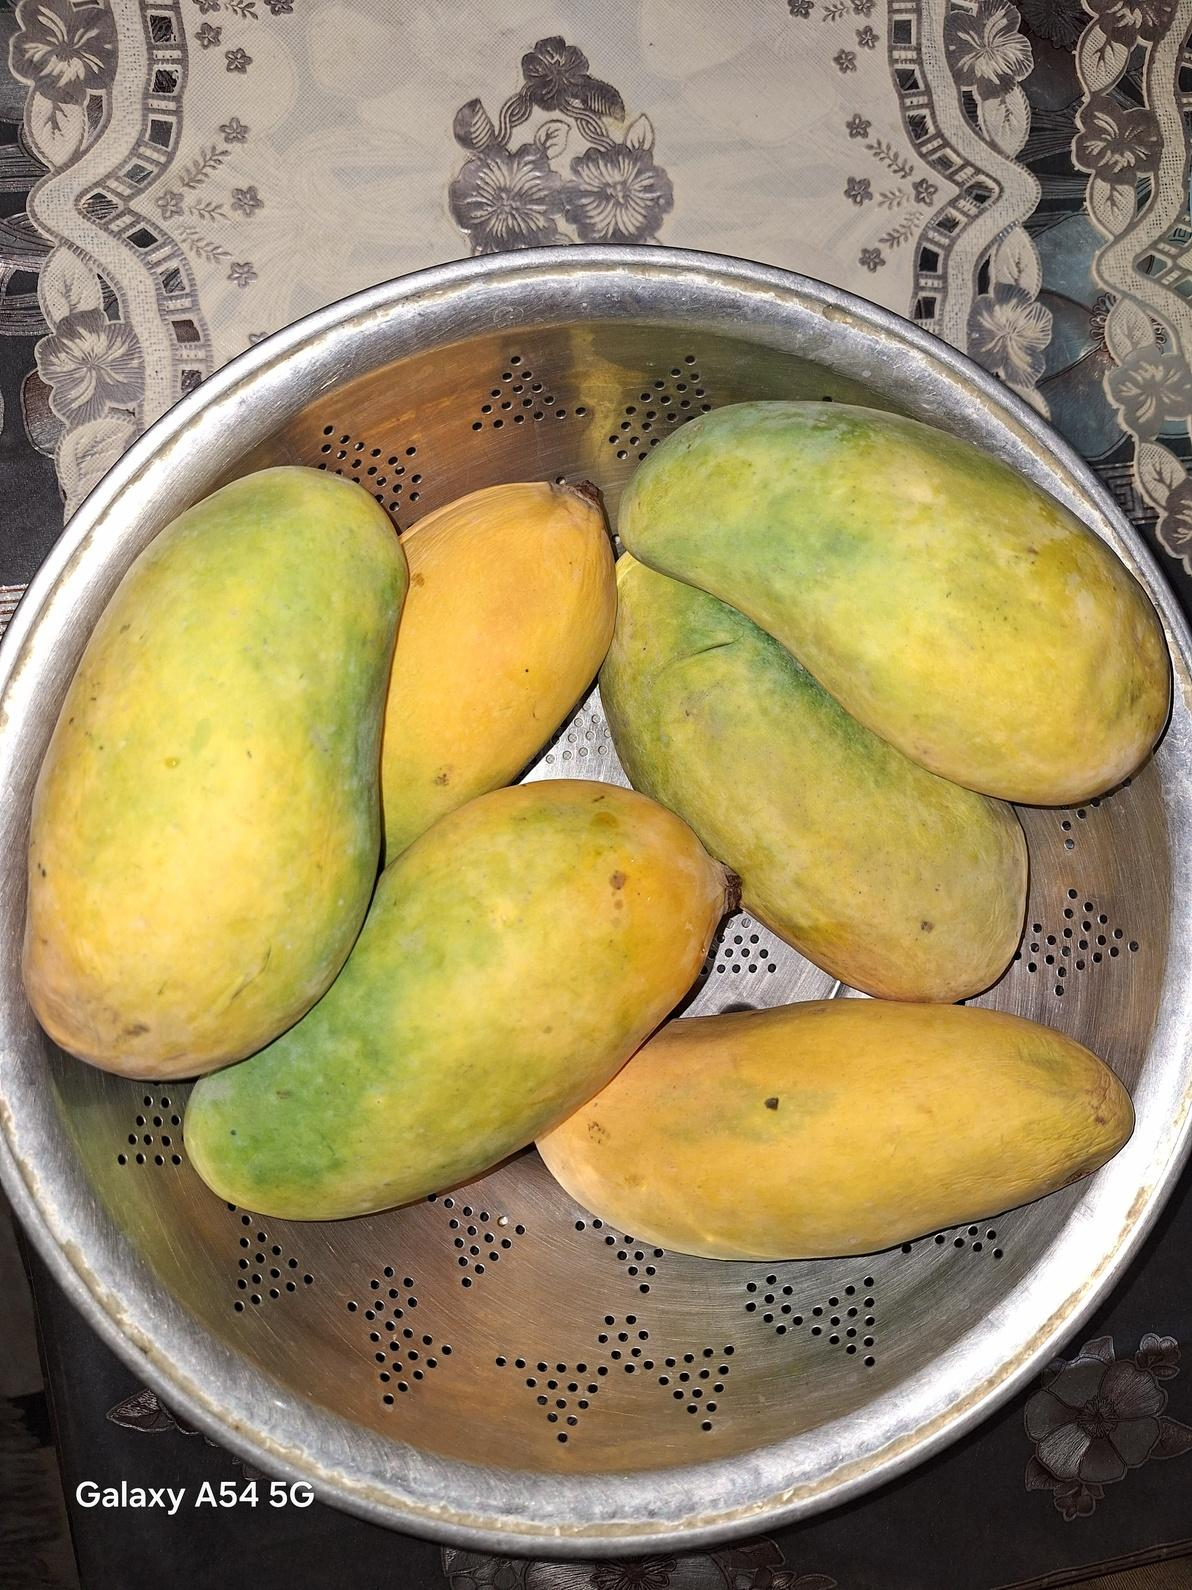mango: (182, 776, 741, 1223), (20, 463, 409, 1080), (615, 397, 1173, 808), (596, 546, 1029, 1004), (533, 997, 1134, 1262), (378, 474, 617, 869)
